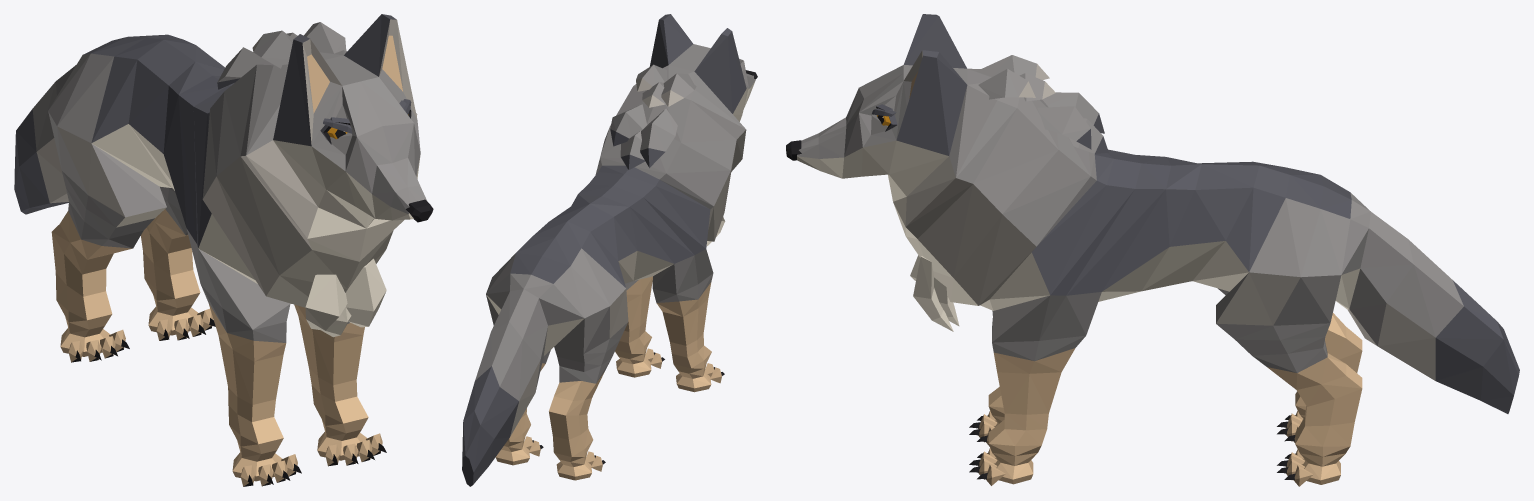
The picture shows the model from 3 angles, left to right: view 1: azimuth 30°, elevation 25°; view 2: azimuth 150°, elevation 25°; view 3: azimuth 270°, elevation 25°; orthographic projection. The views are drawn at different scales.
Visible parts, largest first — view 1: body, piece_bib, piece_toes_fore, piece_toes_hind, piece_nape, piece_withers, piece_eye_R; view 2: body, piece_withers, piece_nape, piece_toes_fore, piece_toes_hind; view 3: body, piece_withers, piece_nape, piece_bib, piece_toes_fore, piece_toes_hind.
Part boxes in pixels (left/top/right/bottom): body: left=14, top=14, right=427, bottom=481; piece_bib: left=305, top=258, right=386, bottom=337; piece_toes_fore: left=240, top=433, right=386, bottom=486; piece_toes_hind: left=68, top=308, right=215, bottom=362; piece_nape: left=252, top=22, right=346, bottom=68; piece_withers: left=217, top=47, right=264, bottom=89; piece_eye_R: left=320, top=117, right=352, bottom=144; body: left=462, top=14, right=755, bottom=486; piece_withers: left=610, top=104, right=677, bottom=169; piece_nape: left=636, top=64, right=696, bottom=107; piece_toes_fore: left=645, top=348, right=724, bottom=383; piece_toes_hind: left=523, top=436, right=605, bottom=471; body: left=797, top=14, right=1519, bottom=484; piece_withers: left=1037, top=92, right=1108, bottom=153; piece_nape: left=976, top=55, right=1055, bottom=101; piece_bib: left=910, top=255, right=959, bottom=331; piece_toes_fore: left=969, top=410, right=1005, bottom=485; piece_toes_hind: left=1277, top=410, right=1313, bottom=486.
Size of the model in its own units: 0.439 by 1.1 by 1.73.
